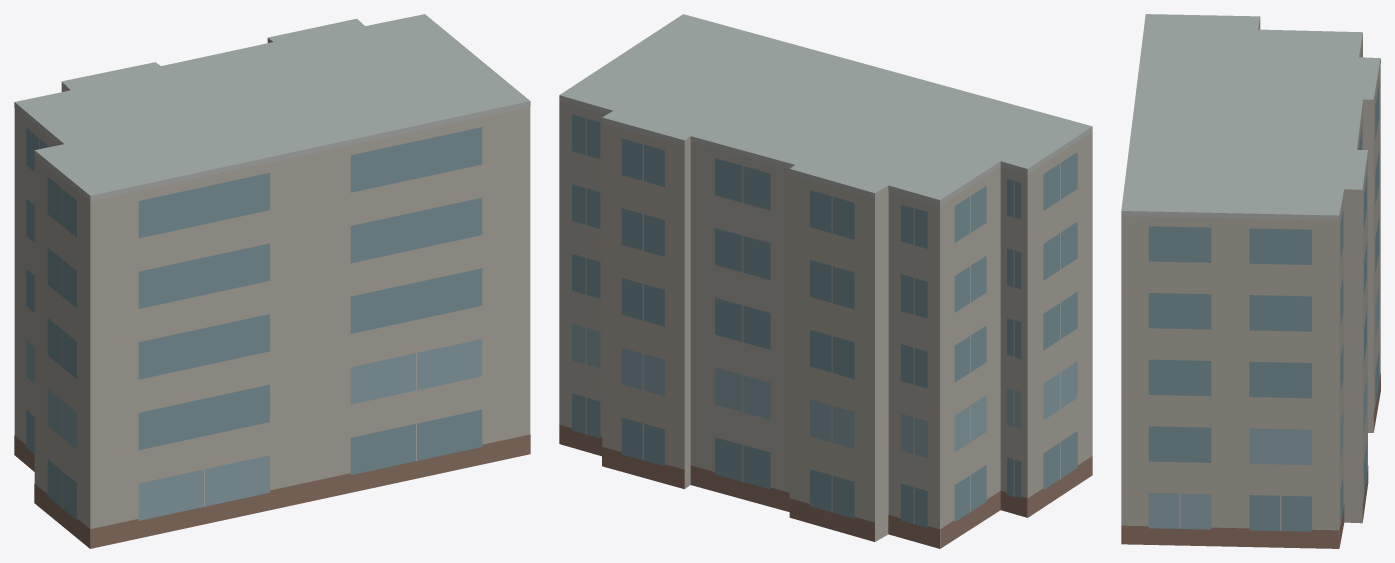
File: survey-upis-32908223.glb
The picture shows the model from 3 angles, left to right: view 1: azimuth 30°, elevation 25°; view 2: azimuth 150°, elevation 25°; view 3: azimuth 270°, elevation 25°; orthographic projection. The views are drawn at different scales.
Visible parts, largest first — view 1: survey-upis-32908223.tmp; view 2: survey-upis-32908223.tmp; view 3: survey-upis-32908223.tmp.
Boxes of the visible parts, x1,y1,x2,y2 form: survey-upis-32908223.tmp: (14,14,530,548); survey-upis-32908223.tmp: (559,14,1092,548); survey-upis-32908223.tmp: (1121,14,1380,548).
Size of the model in its own units: 19.78 by 15.25 by 10.77.
